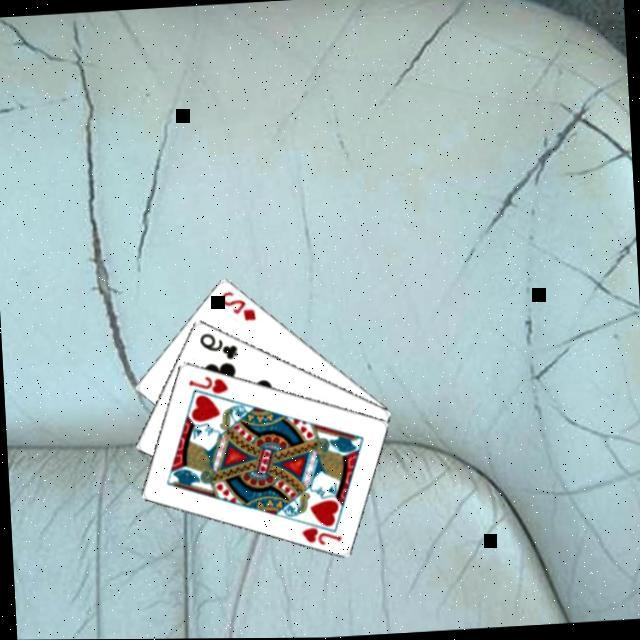2D: (215, 288, 258, 326)
9C: (194, 328, 239, 364)
JH: (296, 524, 342, 550), (184, 373, 229, 399)
